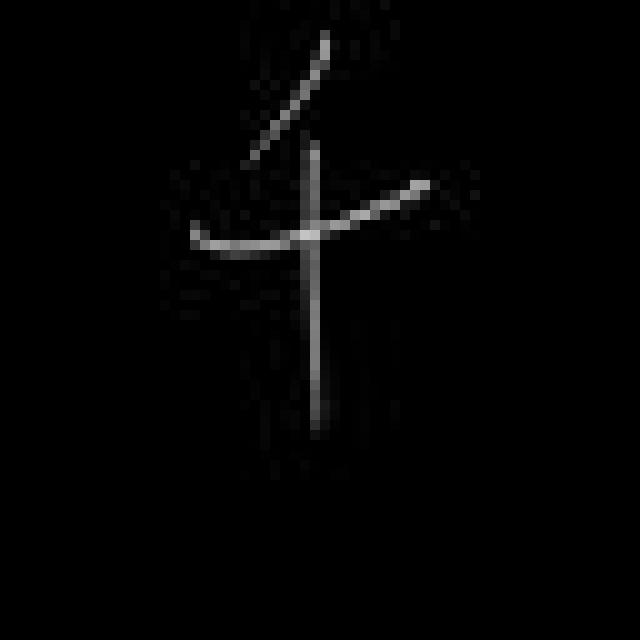1000 -a thousand-: (176, 14, 444, 432)
